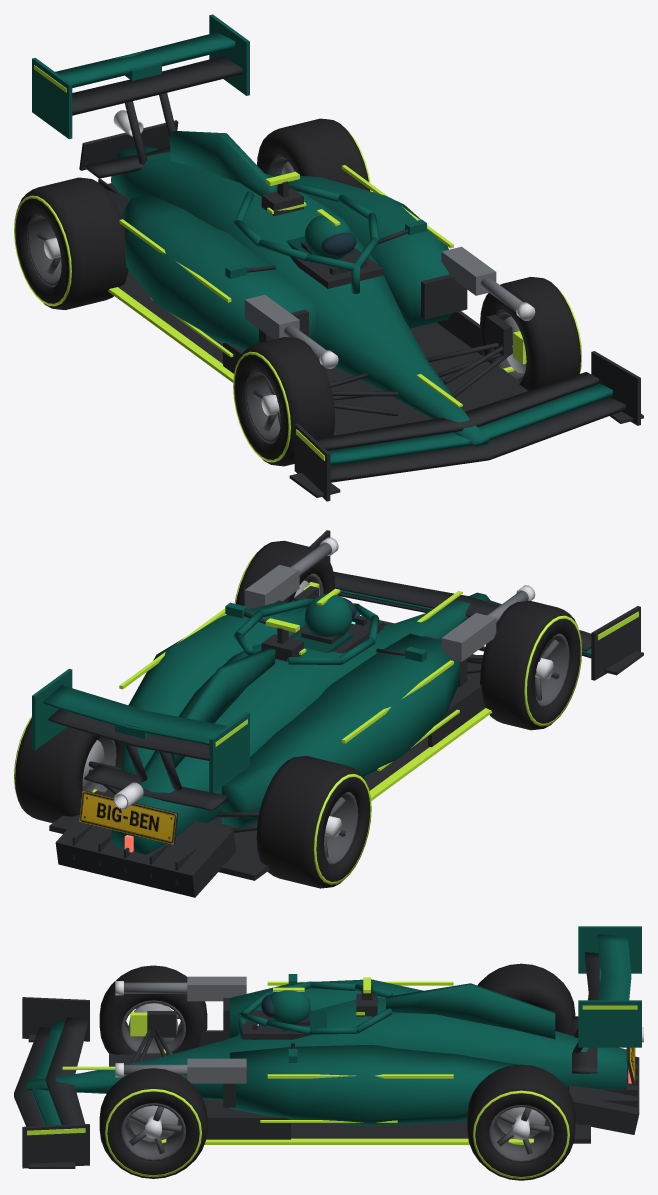
The model's file is Aston_Martin.glb.
3 renders of one model, top to bottom at view 1: azimuth 30°, elevation 25°; view 2: azimuth 150°, elevation 25°; view 3: azimuth 270°, elevation 25°, orthographic. The views are drawn at different scales.
Visible parts, largest first — view 1: Chassis, Wheel_RL, Wheel_FL, Wheel_FR, Wheel_RR, RearPlate_BigBen, BrakeAsm_FR; view 2: Chassis, Wheel_RL, Wheel_FL, Wheel_RR, RearPlate_BigBen, Wheel_FR; view 3: Chassis, Wheel_RR, Wheel_FR, Wheel_FL, Wheel_RL, BrakeAsm_FL.
Boxes of the visible parts, <box> form: Chassis: <box>32,14,643,501</box>; Wheel_RL: <box>14,177,128,310</box>; Wheel_FL: <box>233,337,335,466</box>; Wheel_FR: <box>480,277,582,390</box>; Wheel_RR: <box>257,118,371,191</box>; RearPlate_BigBen: <box>79,120,178,170</box>; BrakeAsm_FR: <box>486,314,526,364</box>; Chassis: <box>32,530,643,897</box>; Wheel_RL: <box>256,756,371,888</box>; Wheel_FL: <box>480,600,581,730</box>; Wheel_RR: <box>14,716,123,822</box>; RearPlate_BigBen: <box>79,790,178,844</box>; Wheel_FR: <box>234,540,335,605</box>; Chassis: <box>14,926,643,1168</box>; Wheel_RR: <box>467,1064,575,1180</box>; Wheel_FR: <box>99,1068,207,1178</box>; Wheel_FL: <box>99,965,207,1054</box>; Wheel_RL: <box>477,963,575,1035</box>; BrakeAsm_FL: <box>130,1011,176,1037</box>.
Size of the model in its own units: 1.53 by 0.82 by 2.98.
13 materials, 1 textured.
